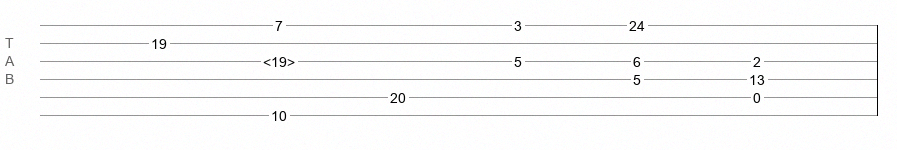0: (753, 90, 761, 100)
10: (271, 108, 287, 118)
13: (749, 72, 765, 82)
19: (151, 36, 167, 46)
2: (753, 54, 761, 64)
20: (390, 90, 406, 100)
24: (629, 18, 645, 28)
3: (514, 18, 522, 28)
5: (514, 54, 522, 64), (633, 72, 641, 82)
6: (633, 54, 641, 64)
7: (275, 18, 283, 28)
harmonic: (263, 54, 295, 64)
